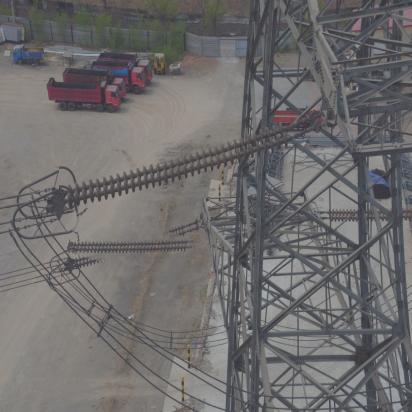insulator: (61, 118, 306, 216), (70, 216, 194, 279)
